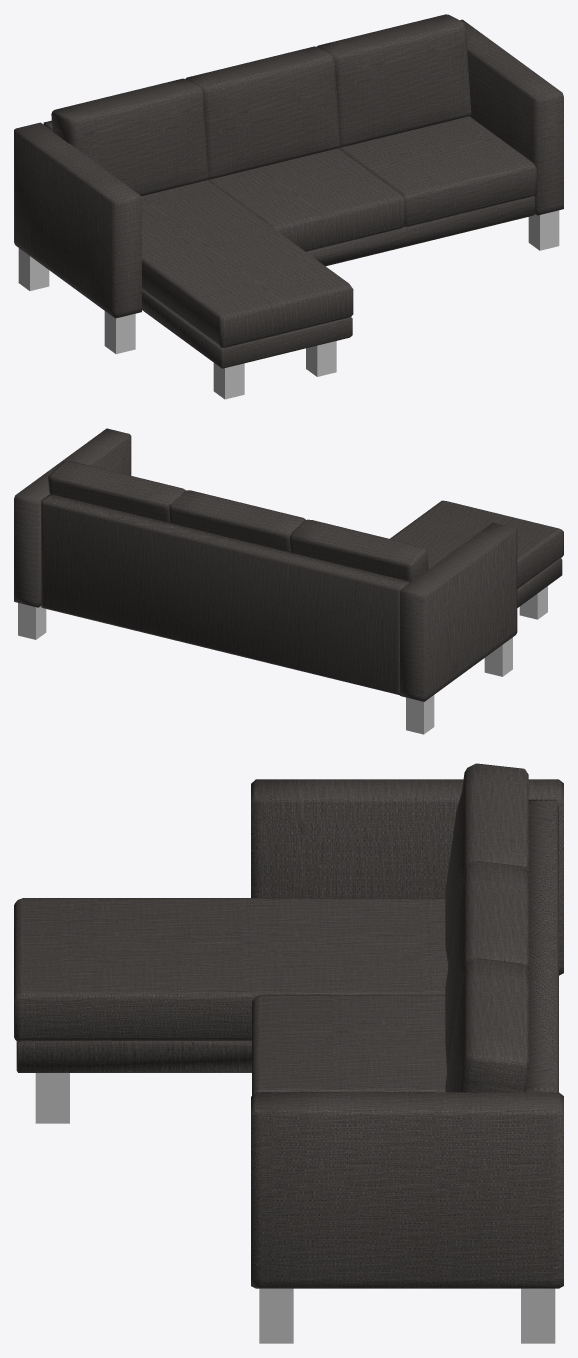
File: couch2.glb
3 renders of one model, top to bottom at view 1: azimuth 30°, elevation 25°; view 2: azimuth 150°, elevation 25°; view 3: azimuth 270°, elevation 25°, orthographic. The views are drawn at different scales.
Visible parts, largest first — view 1: couch_Plane.002; view 2: couch_Plane.002; view 3: couch_Plane.002.
Part boxes in pixels (<box>): couch_Plane.002: <box>14,14,563,399</box>; couch_Plane.002: <box>14,428,563,734</box>; couch_Plane.002: <box>14,763,563,1343</box>.
Size of the model in its own units: 2.3 by 0.8658 by 1.6.
Materials: 2 (1 with a texture image).
